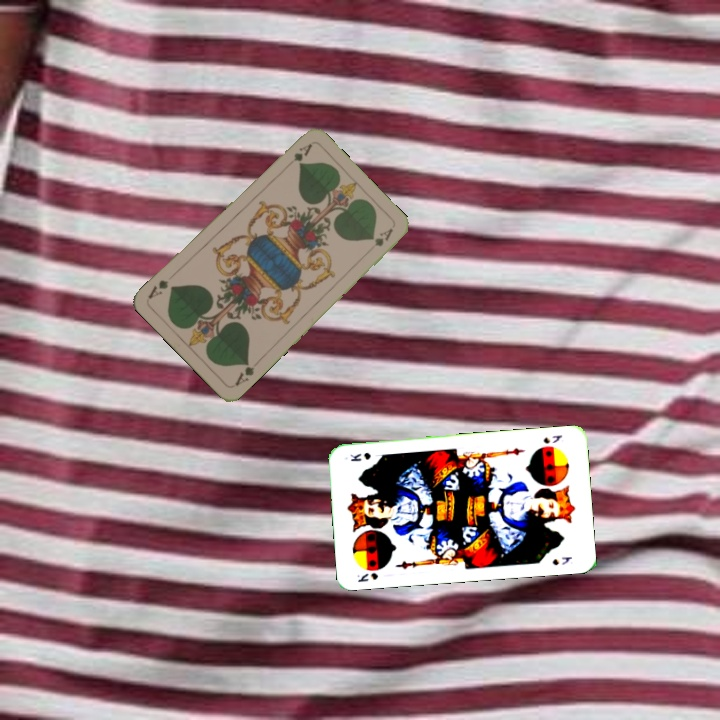GA: (281, 139, 315, 170), (231, 358, 257, 389)
SK: (353, 569, 380, 585), (539, 431, 565, 446)
